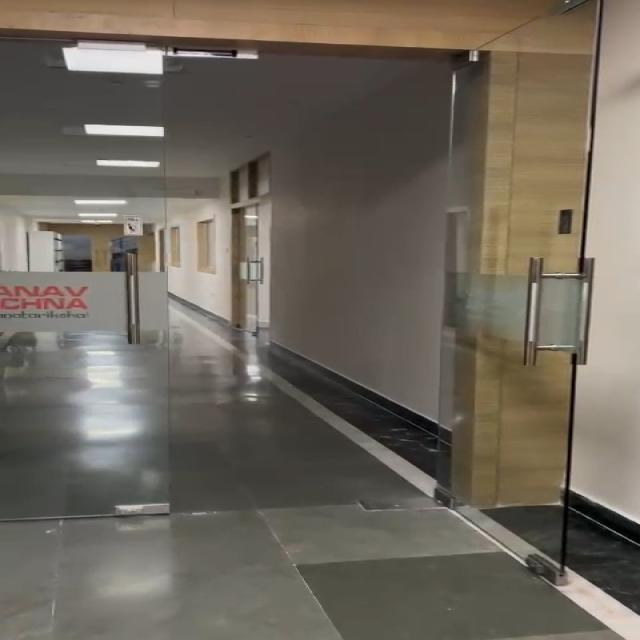door: (424, 22, 640, 545), (0, 38, 159, 527), (206, 168, 283, 339)
floor: (21, 531, 611, 640)
